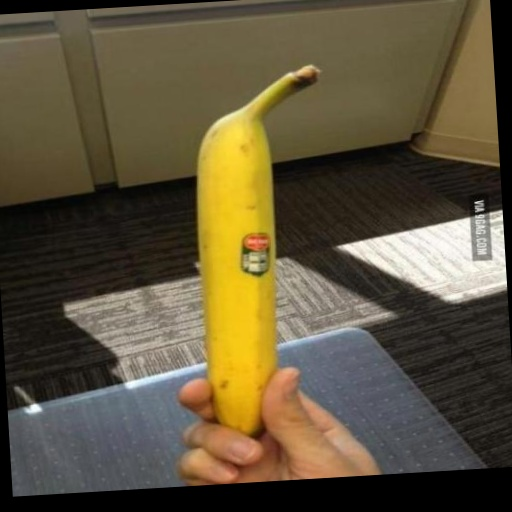fruit: (197, 66, 318, 434)
